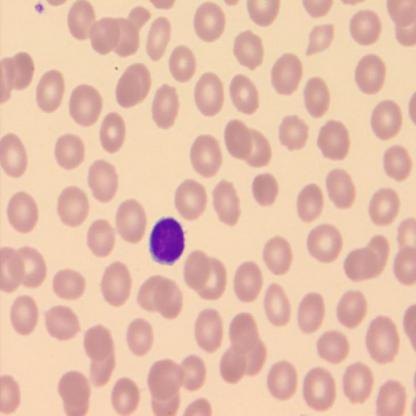Lymphocyte: (148, 216, 186, 268)
